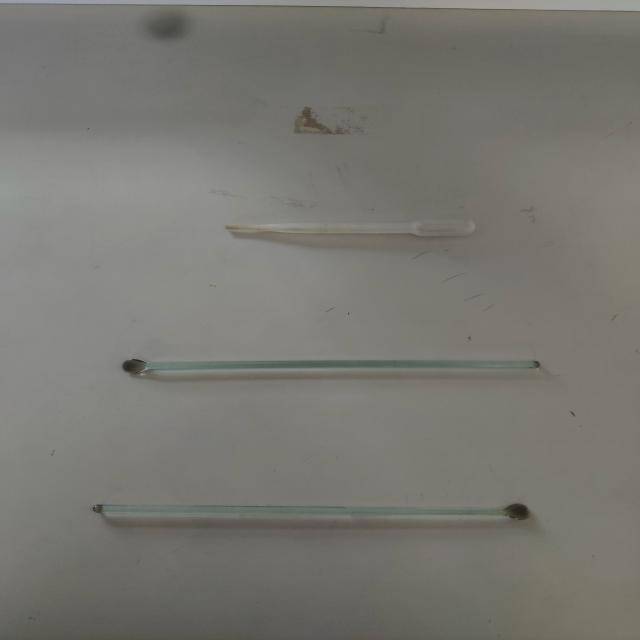Glass_Rod: (62, 479, 568, 560), (90, 333, 574, 413)
Pipette: (180, 191, 503, 281)
